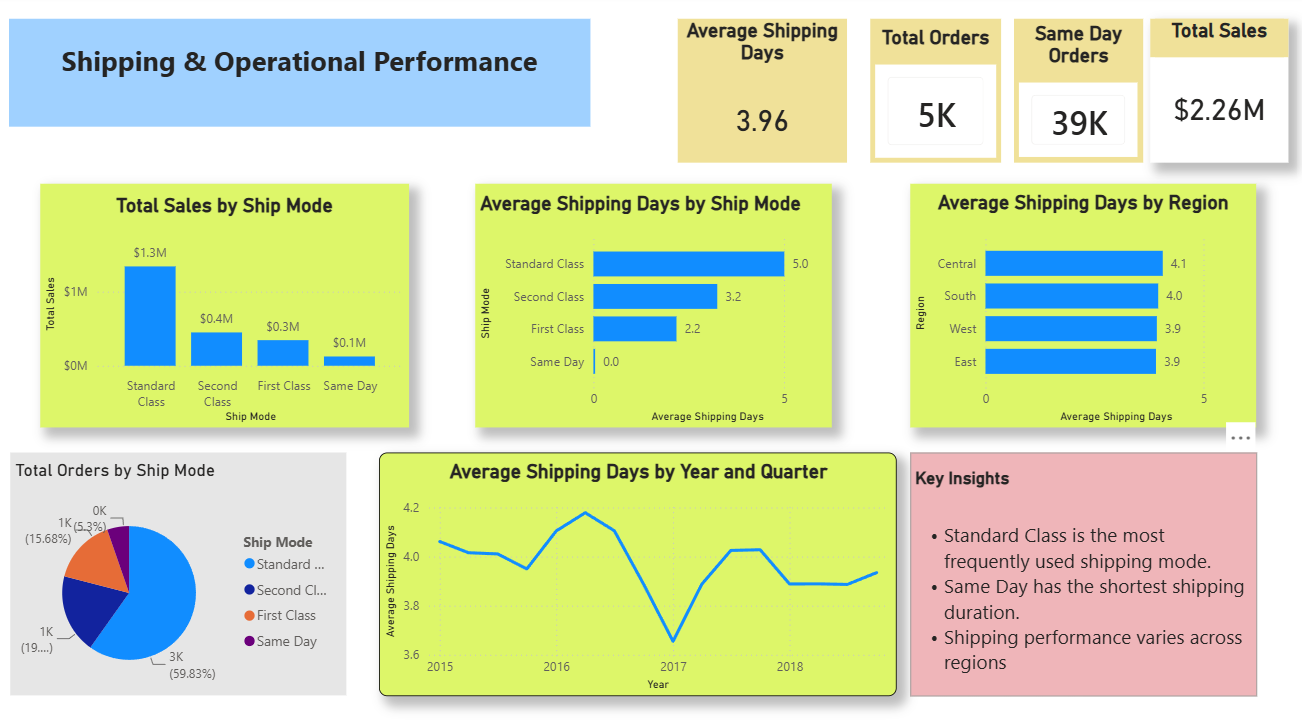

Layout of this report page (visuals, bound fields, positions):
{"tool":"powerbi","page":{"name":"Page 4 - Shipping & Operational","canvas":[1280,720],"ordinal":3},"visuals":[{"type":"textbox","box":[10.1,23.1,568.4,105.3],"z":0},{"type":"card","title":"Average Shipping Days","fields":{"Values":["train.Average Shipping Days"]},"box":[663.9,23.1,165.5,140.6],"z":1000},{"type":"cardVisual","title":"Total Orders","fields":{"Data":["train.Total Orders"]},"box":[852.5,23.1,128.1,140.6],"z":2000},{"type":"cardVisual","title":"Same Day Orders","fields":{"Data":["Sum(train.Shipping Days)"]},"box":[993.1,23.1,126.4,140.6],"z":3000},{"type":"card","title":"Total Sales","fields":{"Values":["train.Total Sales"]},"box":[1126.6,23.1,135.3,140.6],"z":4000},{"type":"columnChart","fields":{"Category":["train.Ship Mode"],"Y":["train.Total Sales"]},"box":[40.4,184.6,360.7,238.5],"z":5000},{"type":"clusteredBarChart","fields":{"Category":["train.Ship Mode"],"Y":["train.Average Shipping Days"]},"box":[465.9,184.6,348.5,238.5],"z":6000},{"type":"clusteredBarChart","fields":{"Category":["train.Region"],"Y":["train.Average Shipping Days"]},"box":[891.4,184.6,338.7,238.5],"z":7000},{"type":"lineChart","fields":{"Category":["train.Order Date.Variation.Date Hierarchy.Year","train.Order Date.Variation.Date Hierarchy.Quarter","train.Order Date.Variation.Date Hierarchy.Month","train.Order Date.Variation.Date Hierarchy.Day"],"Y":["train.Average Shipping Days"]},"box":[371.7,447.6,506.3,238.5],"z":8000},{"type":"pieChart","fields":{"Category":["train.Ship Mode"],"Y":["train.Total Orders"]},"box":[11,447.6,328.9,237.2],"z":9000},{"type":"textbox","title":"Key Insights","box":[891,448,339,238],"z":10000}]}

Visuals, with their boxes in screenshot pixels (x1, y1, x2, y2), scaled from the page's 1280x720 canvas onto the 1302x722 screenshot:
textbox: detection(10, 23, 588, 129)
"Average Shipping Days" card: detection(675, 23, 844, 164)
"Total Orders" cardVisual: detection(867, 23, 997, 164)
"Same Day Orders" cardVisual: detection(1010, 23, 1139, 164)
"Total Sales" card: detection(1146, 23, 1284, 164)
columnChart - train.Ship Mode x train.Total Sales: detection(41, 185, 408, 424)
clusteredBarChart - train.Ship Mode x train.Average Shipping Days: detection(474, 185, 828, 424)
clusteredBarChart - train.Region x train.Average Shipping Days: detection(907, 185, 1251, 424)
lineChart - train.Order Date.Variation.Date Hierarchy.Year x train.Order Date.Variation.Date Hierarchy.Quarter: detection(378, 449, 893, 688)
pieChart - train.Ship Mode x train.Total Orders: detection(11, 449, 346, 687)
"Key Insights" textbox: detection(906, 449, 1251, 688)
